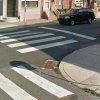Crosswalk: (2, 24, 71, 56)
